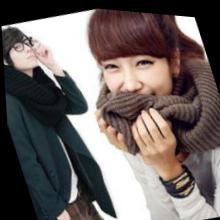NONE: (4, 34, 40, 73)
WRONG: (91, 36, 188, 136)
